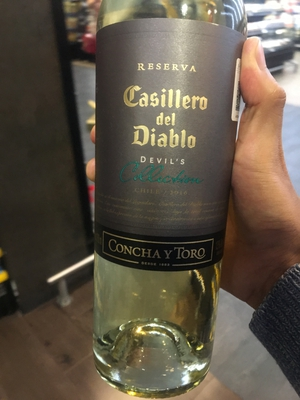casillero del diablo devils collection verde: (91, 4, 245, 386)
